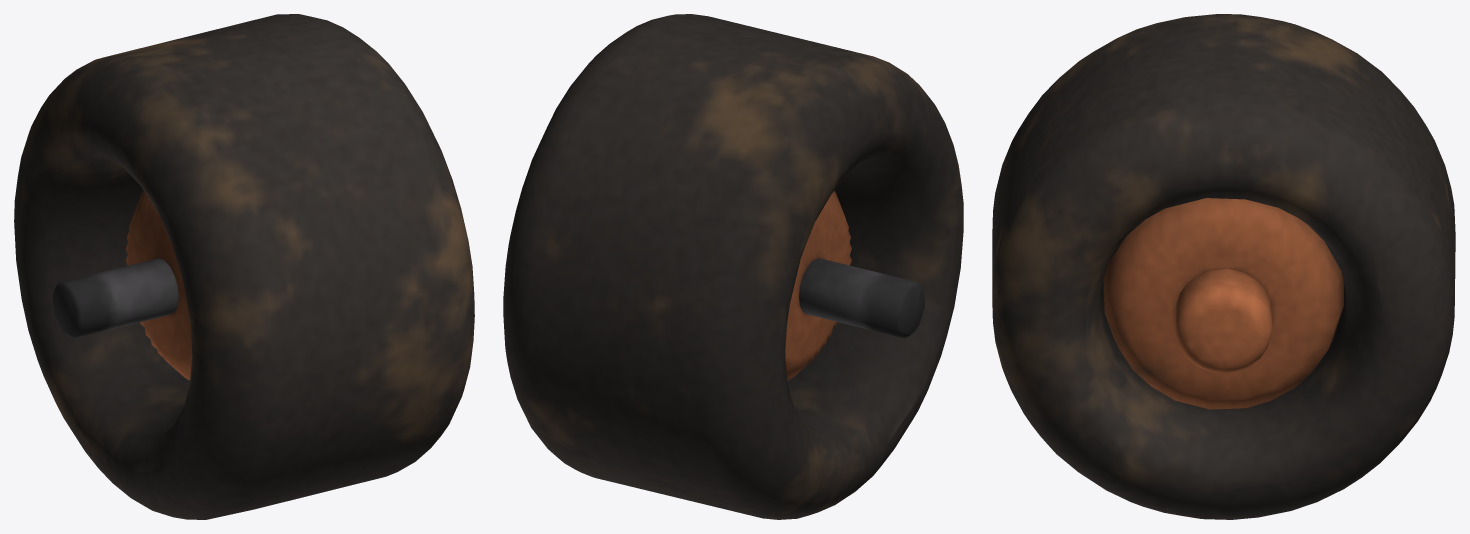
3 views of the same model, side by side, from view 1: azimuth 30°, elevation 25°; view 2: azimuth 150°, elevation 25°; view 3: azimuth 270°, elevation 25° (orthographic). The views are drawn at different scales.
Parts seen in each view (by area): view 1: wheel_FL; view 2: wheel_FL; view 3: wheel_FL.
Part boxes in pixels (box(x1,y1,x2,y2)): wheel_FL: box(14, 14, 474, 519); wheel_FL: box(503, 14, 963, 519); wheel_FL: box(992, 14, 1455, 519).
Bounding box in the file's own units: 0.2276 × 0.2892 × 0.2894.
1 material, 1 textured.
